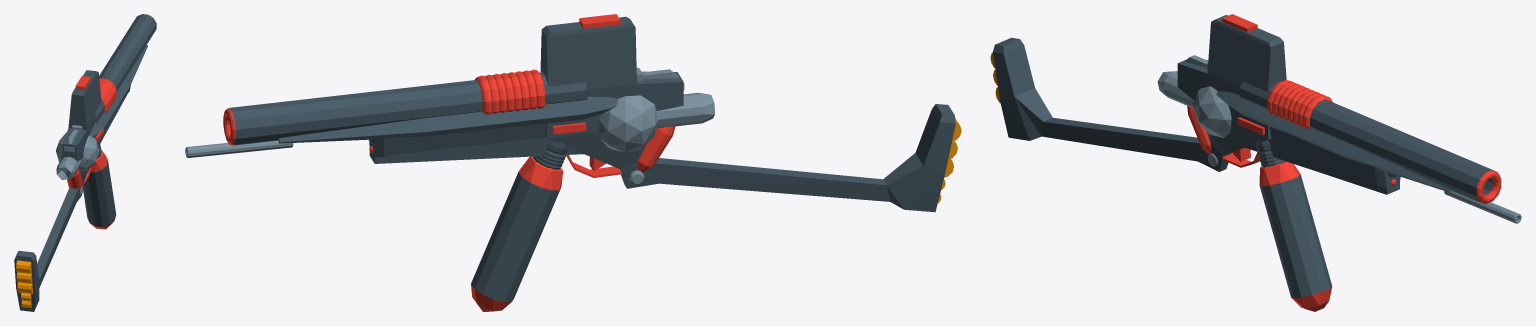
Rendered from scene_ZTI6aUpmzF.glb.
3 renders of one model, left to right at view 1: azimuth 30°, elevation 25°; view 2: azimuth 150°, elevation 25°; view 3: azimuth 270°, elevation 25°, orthographic. The views are drawn at different scales.
Parts seen in each view (by area): view 1: Node; view 2: Node; view 3: Node.
Part boxes in pixels (bbox=[...]): Node: bbox=[14, 14, 156, 311]; Node: bbox=[185, 14, 961, 311]; Node: bbox=[990, 14, 1521, 311].
Bounding box in the file's own units: 1.49 × 0.8008 × 1.49.
